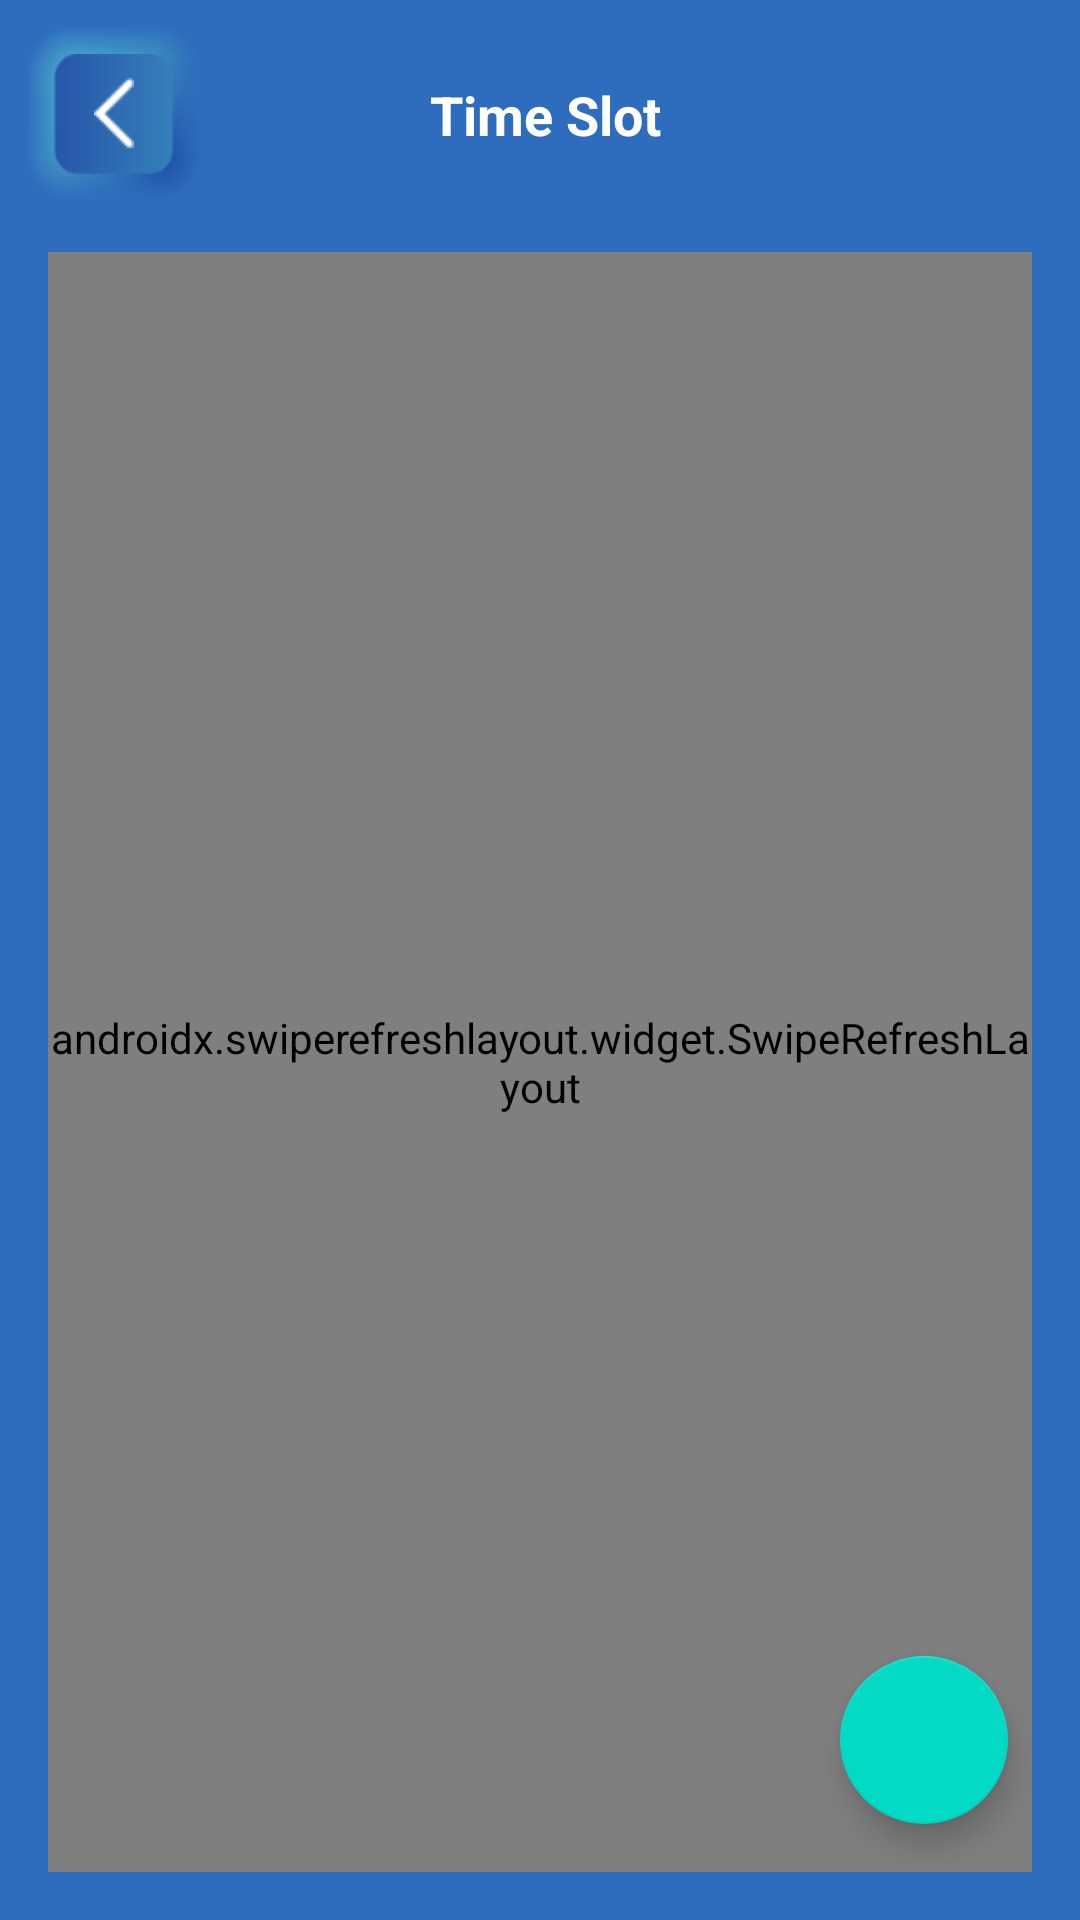

Icons on this 1080 x 1920 Android screen, each with its box as (x1, y1, x2, y2):
back: (54, 54, 174, 174)
